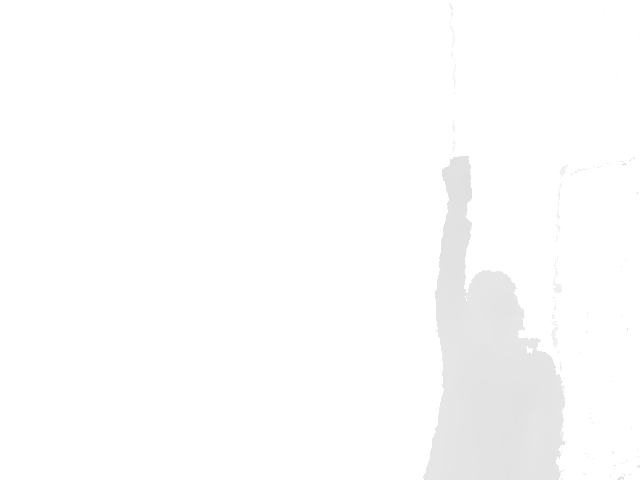hand: (440, 154, 475, 209)
head: (466, 269, 525, 345)
person: (421, 153, 568, 480)
